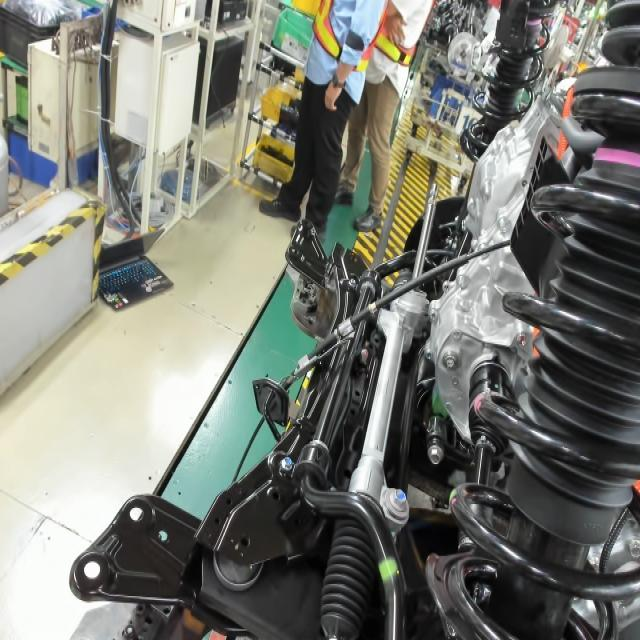Bar Stabilizer-HJ: (375, 546, 404, 588)
Bumper-PK: (583, 137, 640, 170)
